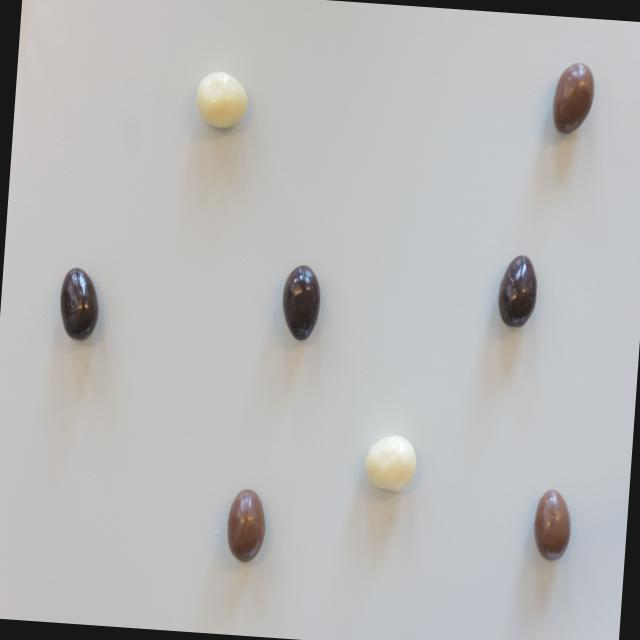Jelly_Black: (56, 264, 102, 342), (281, 260, 323, 342), (498, 254, 540, 328)
Jelly_Milk: (550, 60, 596, 136), (225, 488, 268, 564), (531, 487, 574, 562)
Jelly_White: (362, 432, 419, 494), (194, 68, 249, 130)
